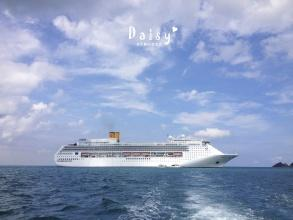youlun: (55, 125, 239, 168)
